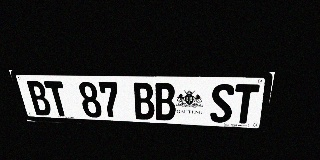7: (97, 82, 122, 119)
8: (77, 82, 103, 118)
B: (25, 81, 53, 116), (132, 82, 155, 120), (153, 83, 176, 121)
S: (210, 84, 235, 123)
T: (232, 84, 260, 124), (43, 81, 71, 116)
